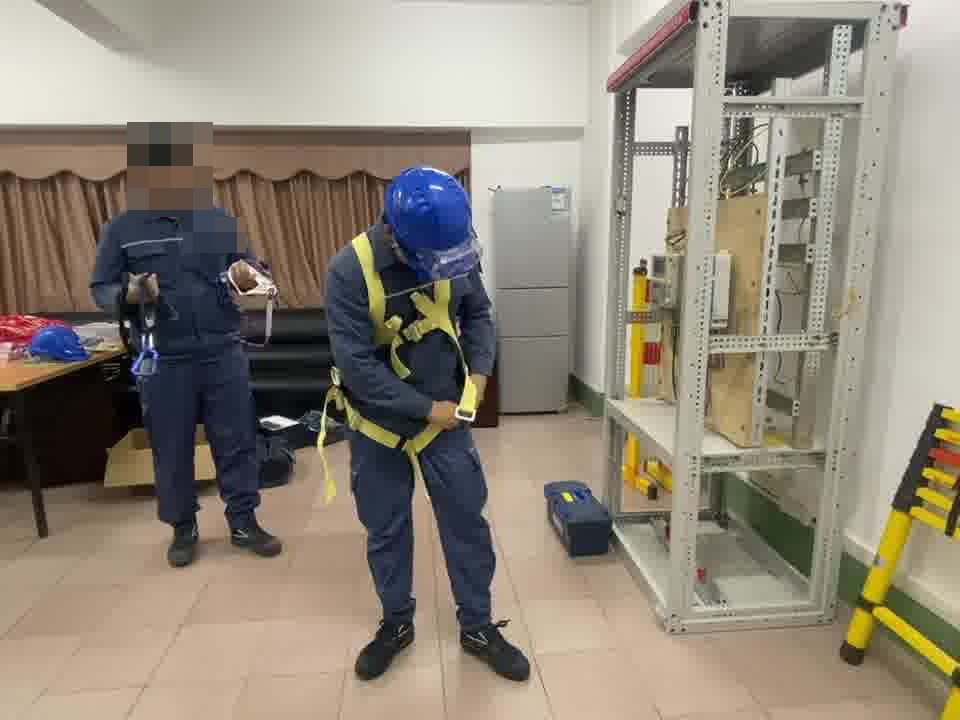downsuit: (348, 428, 504, 625), (139, 361, 267, 526)
halt: (383, 165, 480, 268)
hand: (230, 259, 261, 291), (431, 401, 460, 431)
person: (318, 160, 528, 683), (92, 127, 279, 559)
safebelt: (312, 228, 481, 505)
unhalt: (131, 128, 200, 203)
upsuit: (326, 221, 502, 414), (97, 198, 263, 343)
